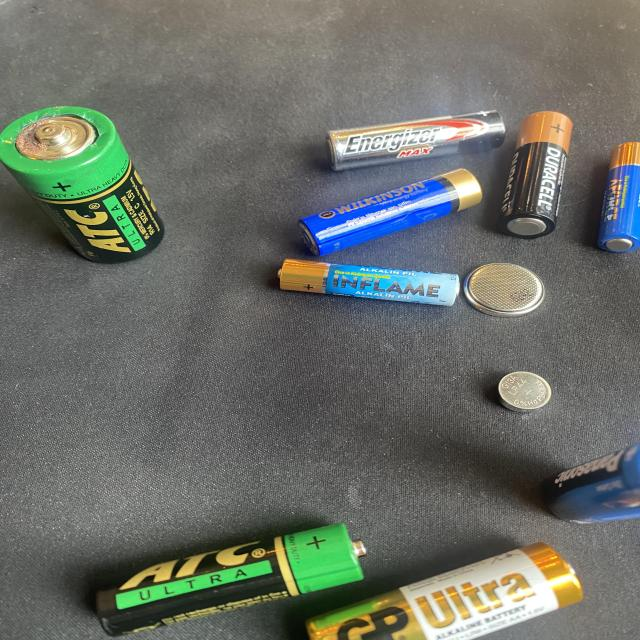AA: (296, 167, 482, 257), (325, 109, 506, 171)
AAA: (276, 258, 460, 306)
